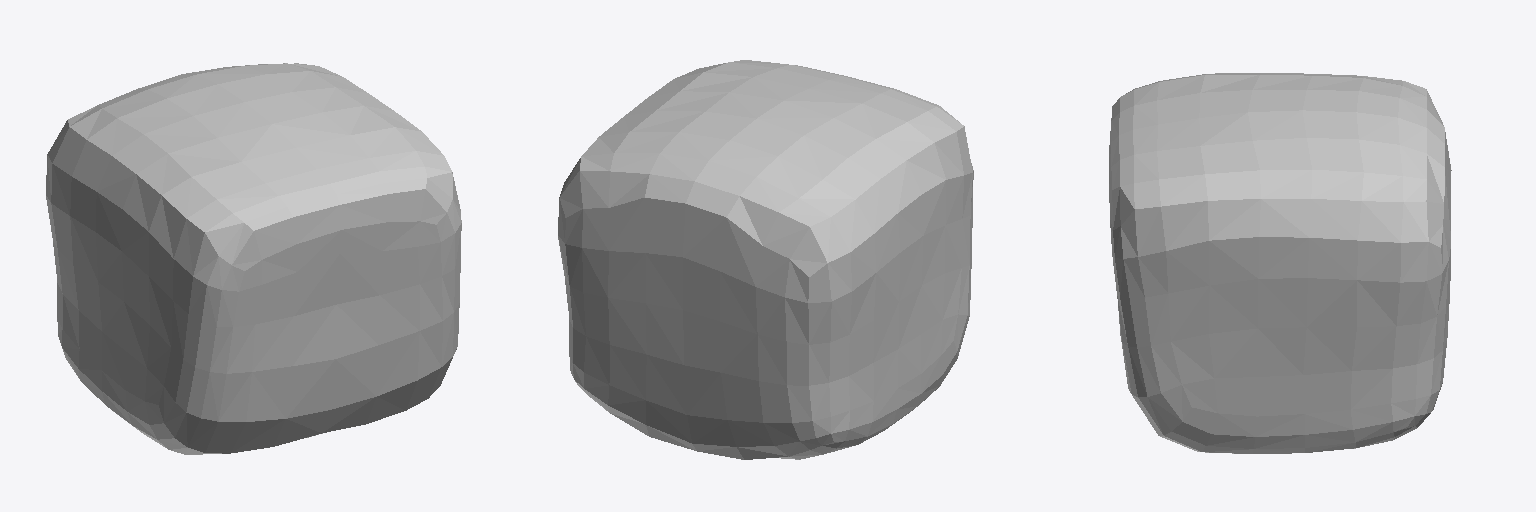
File: block_dirt0_LOD0.obj
3 views of the same model, side by side, from view 1: azimuth 30°, elevation 25°; view 2: azimuth 150°, elevation 25°; view 3: azimuth 270°, elevation 25° (orthographic).
Visible parts, largest first — view 1: block_dirt0_LOD0; view 2: block_dirt0_LOD0; view 3: block_dirt0_LOD0.
Part boxes in pixels (left/top/right/bottom): block_dirt0_LOD0: left=46, top=63, right=461, bottom=454; block_dirt0_LOD0: left=558, top=60, right=973, bottom=459; block_dirt0_LOD0: left=1109, top=73, right=1451, bottom=453.
Size of the model in its own units: 1.98 by 1.87 by 2.